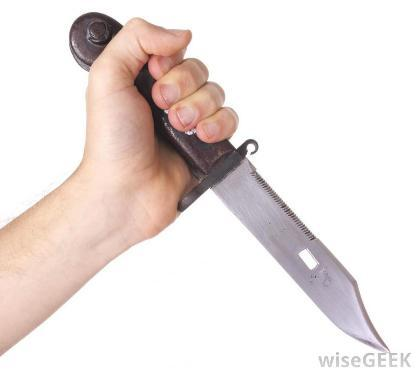knife: (127, 55, 391, 353)
